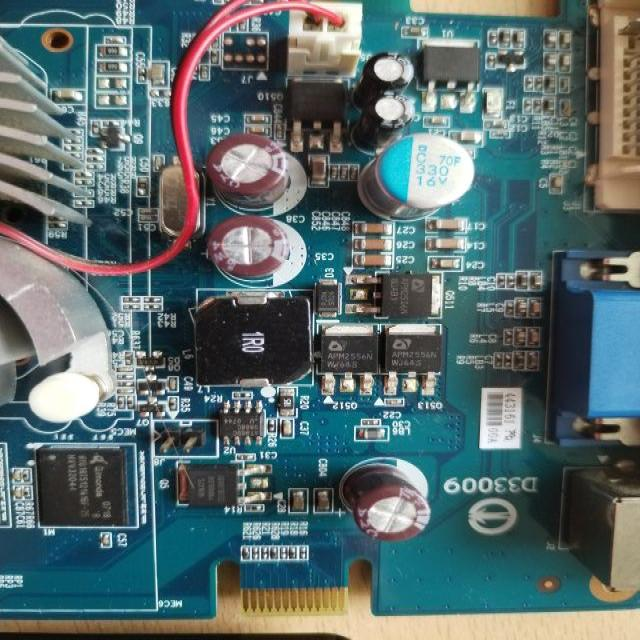capacitor: (426, 200, 481, 247), (348, 206, 399, 245), (288, 476, 313, 523), (275, 411, 300, 449)
